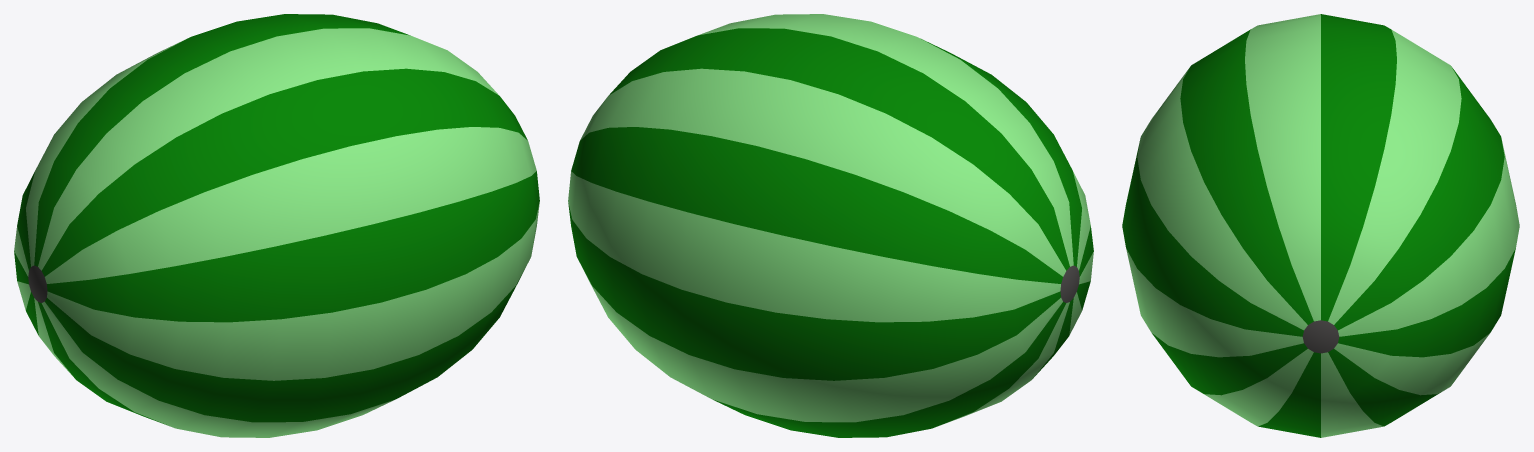
Rendered from Watermelon.fbx.
The picture shows the model from 3 angles, left to right: view 1: azimuth 30°, elevation 25°; view 2: azimuth 150°, elevation 25°; view 3: azimuth 270°, elevation 25°; orthographic projection. The views are drawn at different scales.
Parts seen in each view (by area): view 1: Melon; view 2: Melon; view 3: Melon.
Part boxes in pixels (bbox=[...]): Melon: bbox=[14, 14, 539, 437]; Melon: bbox=[568, 14, 1093, 437]; Melon: bbox=[1122, 14, 1519, 437].
Size of the model in its own units: 266 by 200 by 200.
